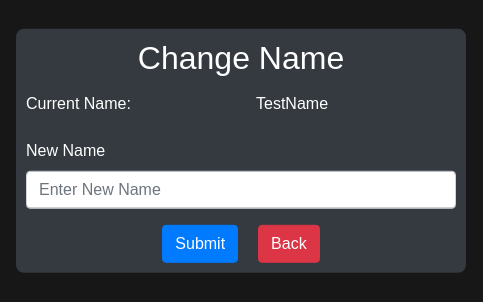
ChangeProfileInfo › Functionality › change Name › should show error if Name contains number or char
In the field labelled "New Name": (241, 190) [26,171,456,209], type "abcd1"
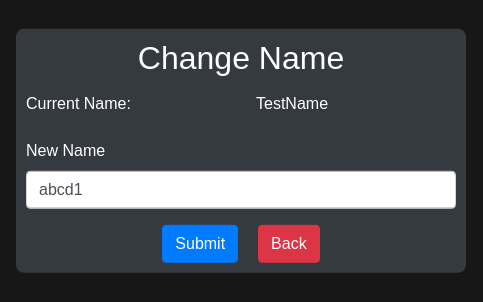
Click the button "Submit": (200, 244) [162,225,238,263]
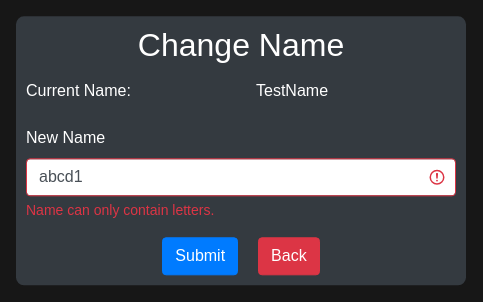
Check: the text "Name can only contain letters." is shown, box [26,203,214,219]
